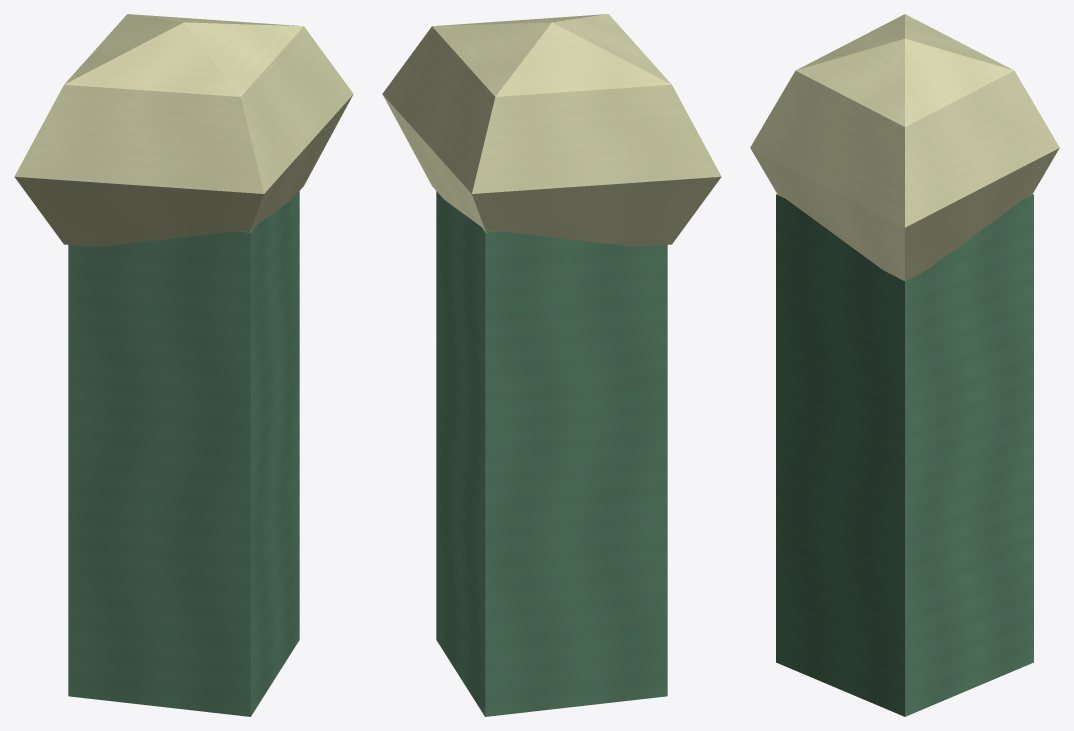
The model's file is atlas100-s004-a05.lod2.glb.
The picture shows the model from 3 angles, left to right: view 1: azimuth 30°, elevation 25°; view 2: azimuth 150°, elevation 25°; view 3: azimuth 270°, elevation 25°; orthographic projection. The views are drawn at different scales.
Parts seen in each view (by area): view 1: atlas100-s004-a05:part-001, atlas100-s004-a05:part-002; view 2: atlas100-s004-a05:part-001, atlas100-s004-a05:part-002; view 3: atlas100-s004-a05:part-001, atlas100-s004-a05:part-002.
Boxes of the visible parts, x1,y1,x2,y2 form: atlas100-s004-a05:part-001: (68, 191, 299, 716); atlas100-s004-a05:part-002: (14, 14, 353, 246); atlas100-s004-a05:part-001: (436, 191, 667, 716); atlas100-s004-a05:part-002: (382, 14, 721, 246); atlas100-s004-a05:part-001: (776, 194, 1033, 716); atlas100-s004-a05:part-002: (750, 14, 1059, 281).
Bounding box in the file's own units: 0.2402 × 0.4368 × 0.1966.
2 materials, 2 textured.
